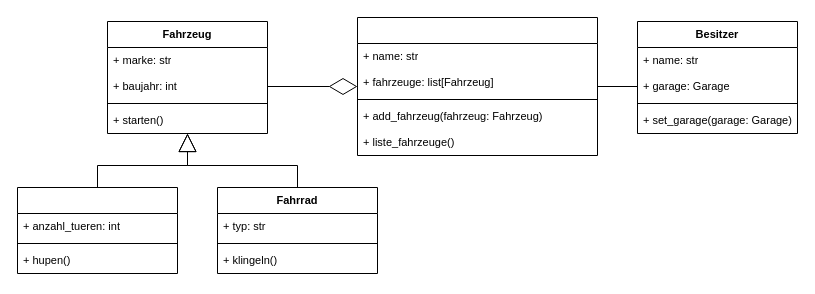
Image size: 815x294. Some labels were removed from this diagram. Each missing label, with the box of its shape:
Auto: (16, 186, 178, 274)
Garage: (356, 16, 598, 156)
